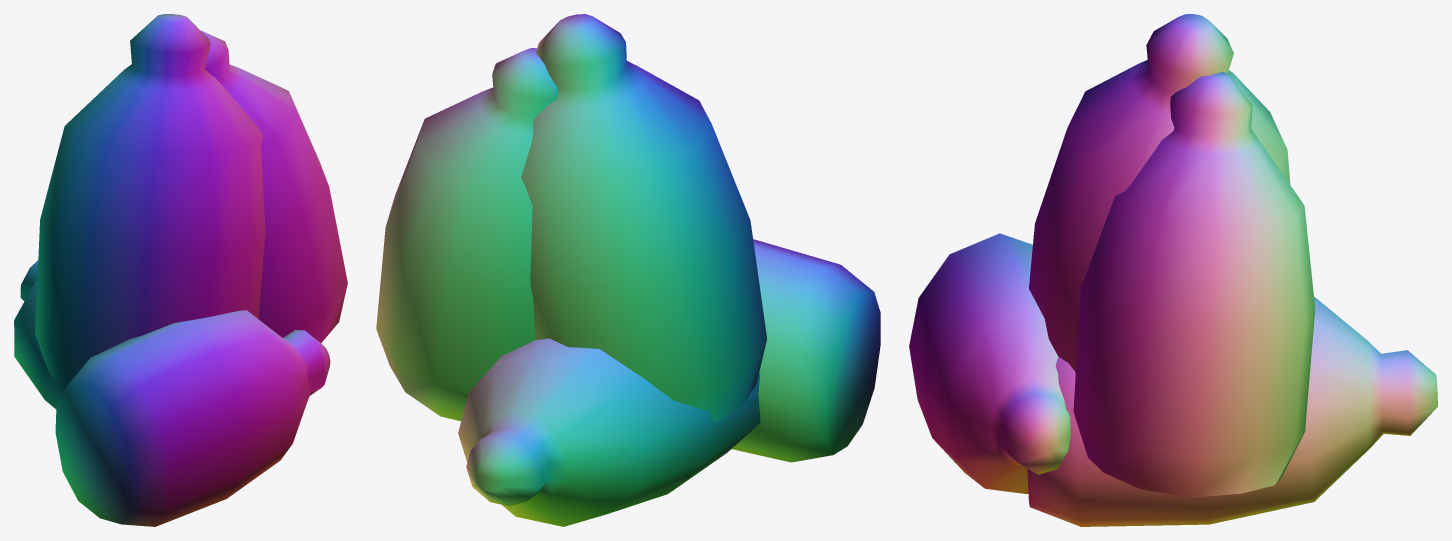
The model's file is SM_Prop_March_RationSacks.fbx.
The picture shows the model from 3 angles, left to right: view 1: azimuth 30°, elevation 25°; view 2: azimuth 150°, elevation 25°; view 3: azimuth 270°, elevation 25°; orthographic projection. The views are drawn at different scales.
Visible parts, largest first — view 1: SM_Prop_March_RationSacks; view 2: SM_Prop_March_RationSacks; view 3: SM_Prop_March_RationSacks.
Part boxes in pixels (<box>): SM_Prop_March_RationSacks: <box>14,14,347,526</box>; SM_Prop_March_RationSacks: <box>376,14,880,526</box>; SM_Prop_March_RationSacks: <box>909,14,1437,526</box>.
Size of the model in its own units: 0.7286 by 0.871 by 0.8312.
